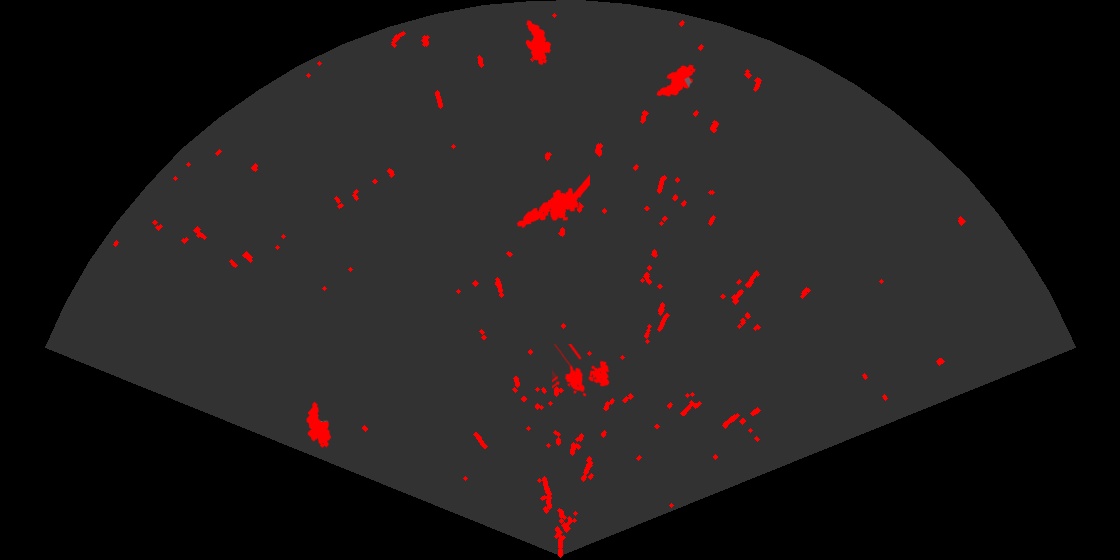AUV: (655, 63, 697, 98), (524, 19, 553, 67), (305, 400, 333, 449)
cage: (552, 344, 611, 398)
frogman: (515, 173, 590, 229)
